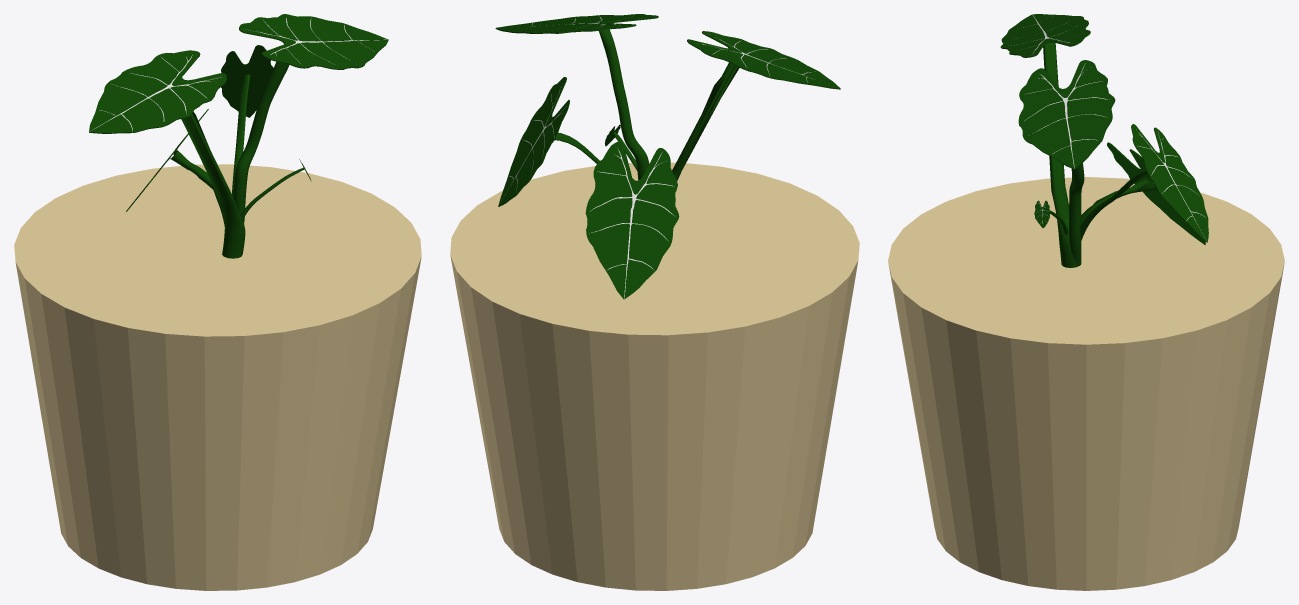
Rendered from Alokasia8.glb.
3 views of the same model, side by side, from view 1: azimuth 30°, elevation 25°; view 2: azimuth 150°, elevation 25°; view 3: azimuth 270°, elevation 25° (orthographic). The views are drawn at different scales.
Visible parts, largest first — view 1: 흙임, 잎.003; view 2: 흙임, 잎.003; view 3: 흙임, 잎.003.
Part boxes in pixels (x1=…): 흙임: x1=14, y1=164, x2=421, y2=590; 잎.003: x1=89, y1=14, x2=388, y2=258; 흙임: x1=450, y1=162, x2=859, y2=590; 잎.003: x1=495, y1=14, x2=840, y2=299; 흙임: x1=888, y1=177, x2=1284, y2=590; 잎.003: x1=1000, y1=14, x2=1208, y2=267.
Size of the model in its own units: 0.3201 by 0.4246 by 0.3201.
